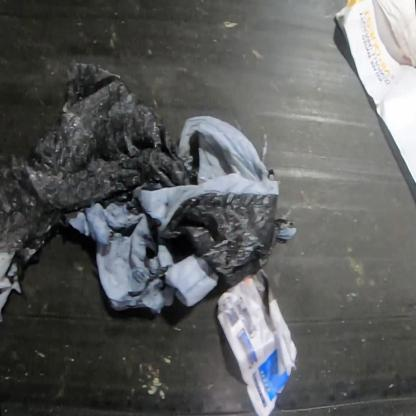soft_plastic: (0, 64, 297, 320)
